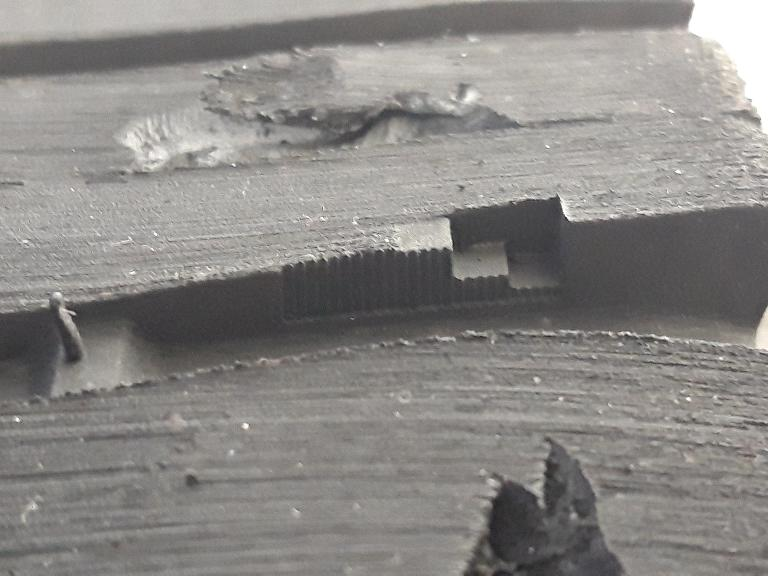temoin:50: (378, 185, 588, 324)
